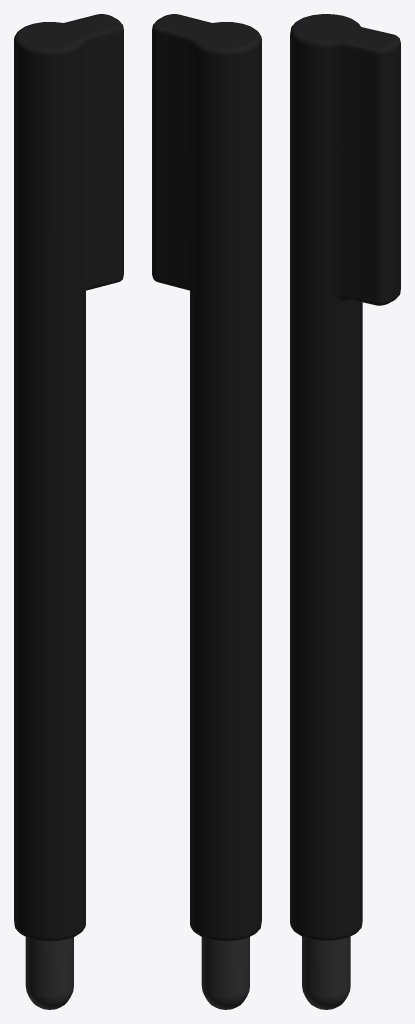
File: 3D039_Stylus.FBX
3 renders of one model, left to right at view 1: azimuth 30°, elevation 25°; view 2: azimuth 150°, elevation 25°; view 3: azimuth 330°, elevation 25°, orthographic.
Parts seen in each view (by area): view 1: 3D039_Stylus_01, 3D039_Stylus_02; view 2: 3D039_Stylus_01, 3D039_Stylus_02; view 3: 3D039_Stylus_01, 3D039_Stylus_02.
Boxes of the visible parts, x1=… form: 3D039_Stylus_01: x1=14, y1=14, x2=123, y2=941; 3D039_Stylus_02: x1=25, y1=937, x2=73, y2=1009; 3D039_Stylus_01: x1=152, y1=14, x2=261, y2=940; 3D039_Stylus_02: x1=201, y1=937, x2=249, y2=1009; 3D039_Stylus_01: x1=290, y1=14, x2=400, y2=940; 3D039_Stylus_02: x1=302, y1=936, x2=350, y2=1009.
Bounding box in the file's own units: 1.54 × 14.17 × 0.9568.
